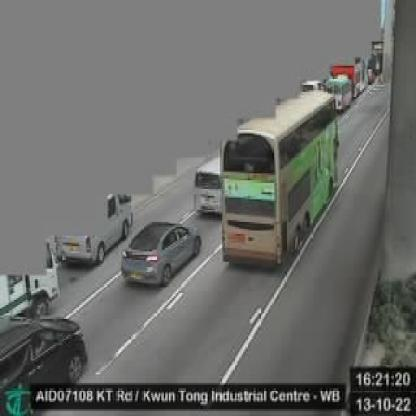Bus: (222, 88, 336, 266)
Car: (56, 185, 132, 266), (121, 219, 200, 288), (195, 157, 226, 215)
Minibus: (324, 75, 353, 112)
